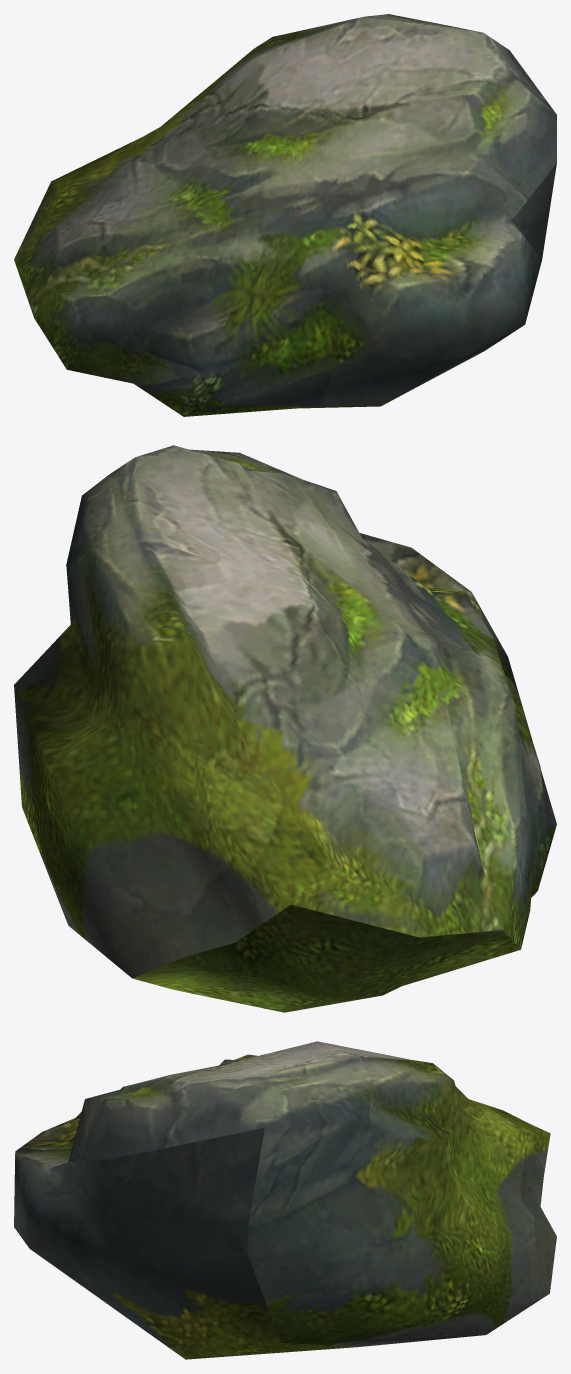
3 views of the same model, one above another, from view 1: azimuth 30°, elevation 25°; view 2: azimuth 150°, elevation 25°; view 3: azimuth 270°, elevation 25° (orthographic). The views are drawn at different scales.
Visible parts, largest first — view 1: st_002; view 2: st_002; view 3: st_002.
Part boxes in pixels (x1=…): st_002: x1=14, y1=14, x2=556, y2=416; st_002: x1=14, y1=445, x2=556, y2=1012; st_002: x1=14, y1=1041, x2=556, y2=1359.
Size of the model in its own units: 119 by 92.37 by 134.
